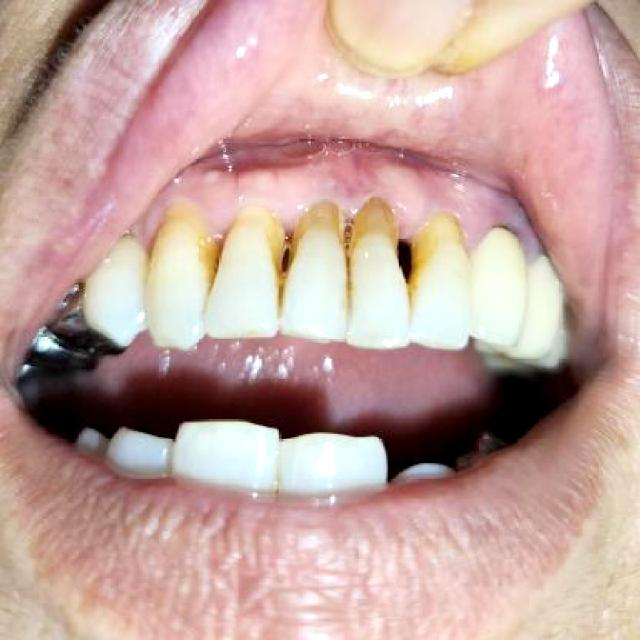Plaque: (129, 160, 542, 263)
